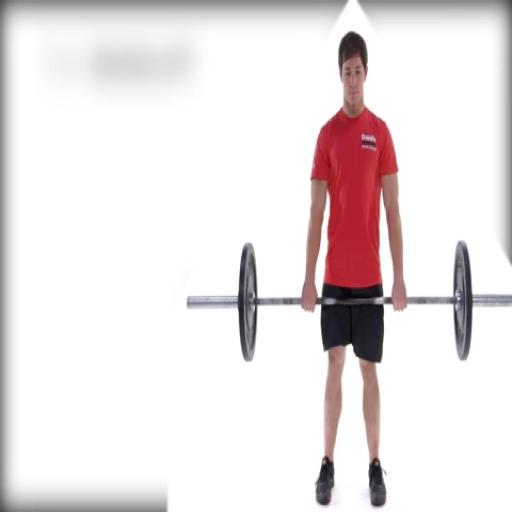exercise: (298, 30, 408, 509)
